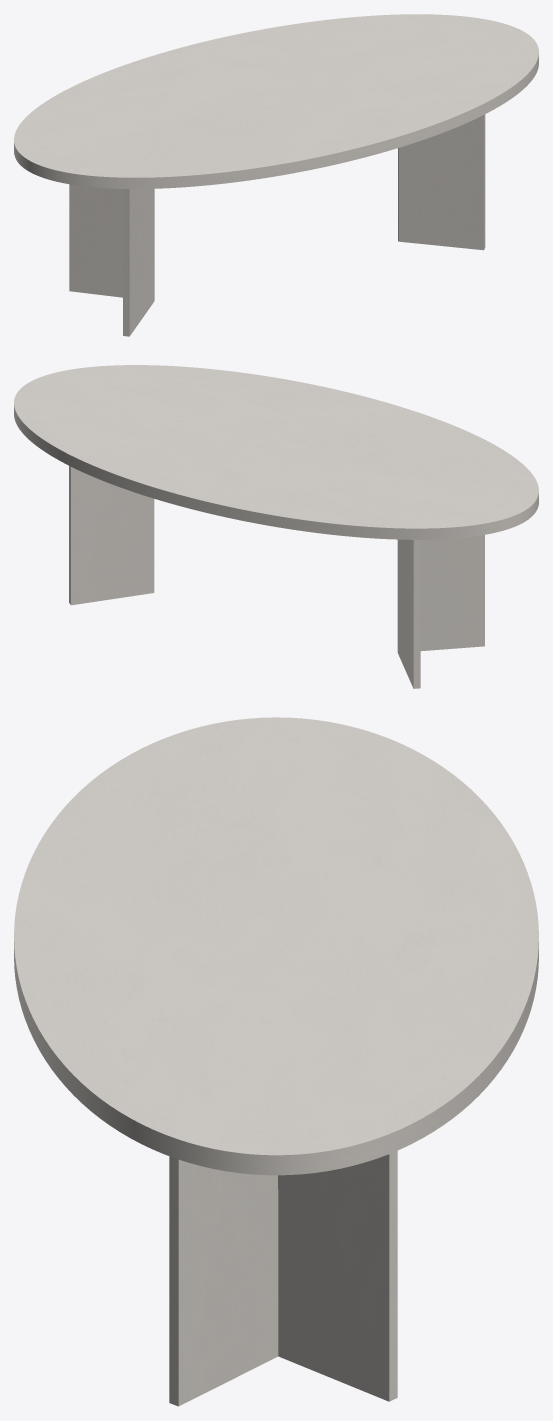
Rendered from pearlwhite_ellips_standard_valleyv.glb.
3 renders of one model, top to bottom at view 1: azimuth 30°, elevation 25°; view 2: azimuth 150°, elevation 25°; view 3: azimuth 270°, elevation 25°, orthographic. The views are drawn at different scales.
Parts seen in each view (by area): view 1: standard_ellips, valleyv; view 2: standard_ellips, valleyv; view 3: standard_ellips, valleyv.
Boxes of the visible parts, left/top/right/bottom form: standard_ellips: left=14, top=14, right=538, bottom=188; valleyv: left=69, top=114, right=485, bottom=336; standard_ellips: left=14, top=365, right=538, bottom=539; valleyv: left=69, top=466, right=484, bottom=688; standard_ellips: left=14, top=717, right=538, bottom=1175; valleyv: left=169, top=1150, right=397, bottom=1406.
Bounding box in the file's own units: 7.5 × 2.5 × 3.8.
Materials: 1 (1 with a texture image).
